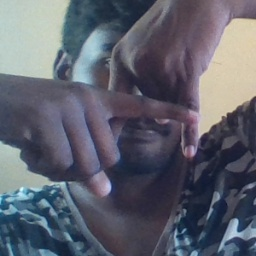H: (81, 51, 212, 178)
